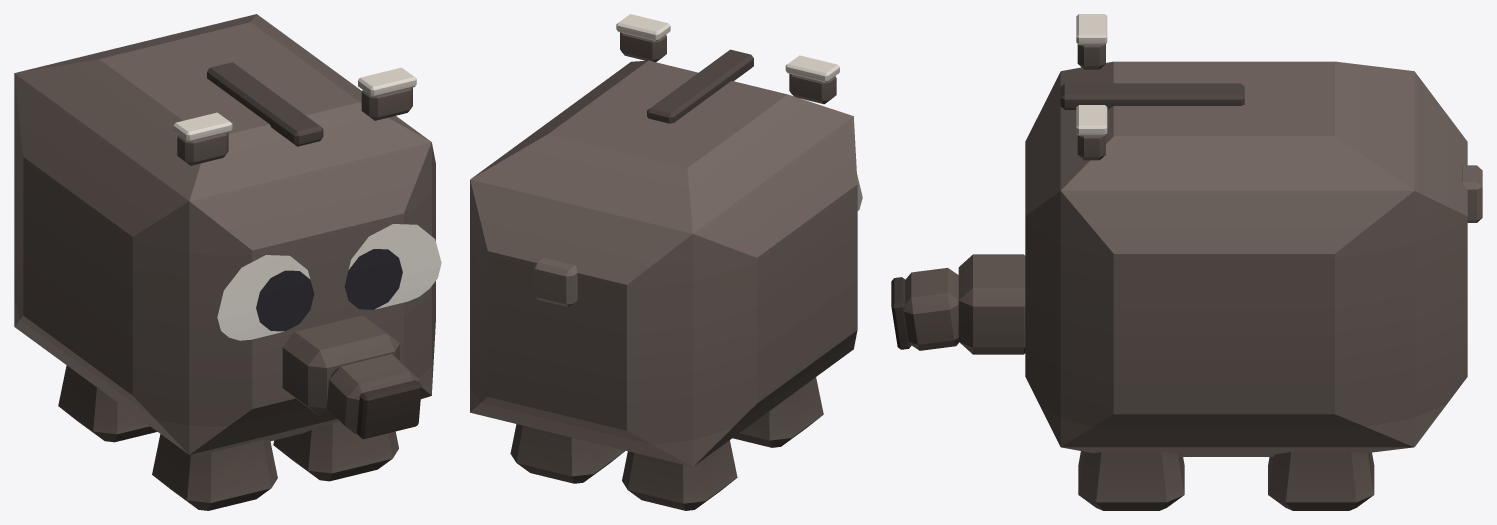
File: anta.glb
3 renders of one model, left to right at view 1: azimuth 30°, elevation 25°; view 2: azimuth 150°, elevation 25°; view 3: azimuth 270°, elevation 25°, orthographic. The views are drawn at different scales.
Parts seen in each view (by area): view 1: head, body, leg-front-right, leg-front-left, leg-back-right; view 2: body, head, leg-back-right, leg-back-left, leg-front-right; view 3: body, head, leg-front-left, leg-back-left.
Boxes of the visible parts, x1,y1,x2,y2 form: head: (132,67,441,455); body: (14,14,404,435); leg-front-right: (152,434,277,510); leg-front-left: (273,421,398,481); leg-back-right: (58,365,157,442); body: (470,60,857,466); head: (608,14,862,366); leg-back-right: (622,440,737,510); leg-back-left: (510,424,625,483); leg-front-right: (733,377,823,447); body: (1113,61,1482,456); head: (891,14,1113,453); leg-front-left: (1078,451,1184,510); leg-back-left: (1268,452,1374,510).
Size of the model in its own units: 1.25 by 1.55 by 2.09.
1 material, 1 textured.
